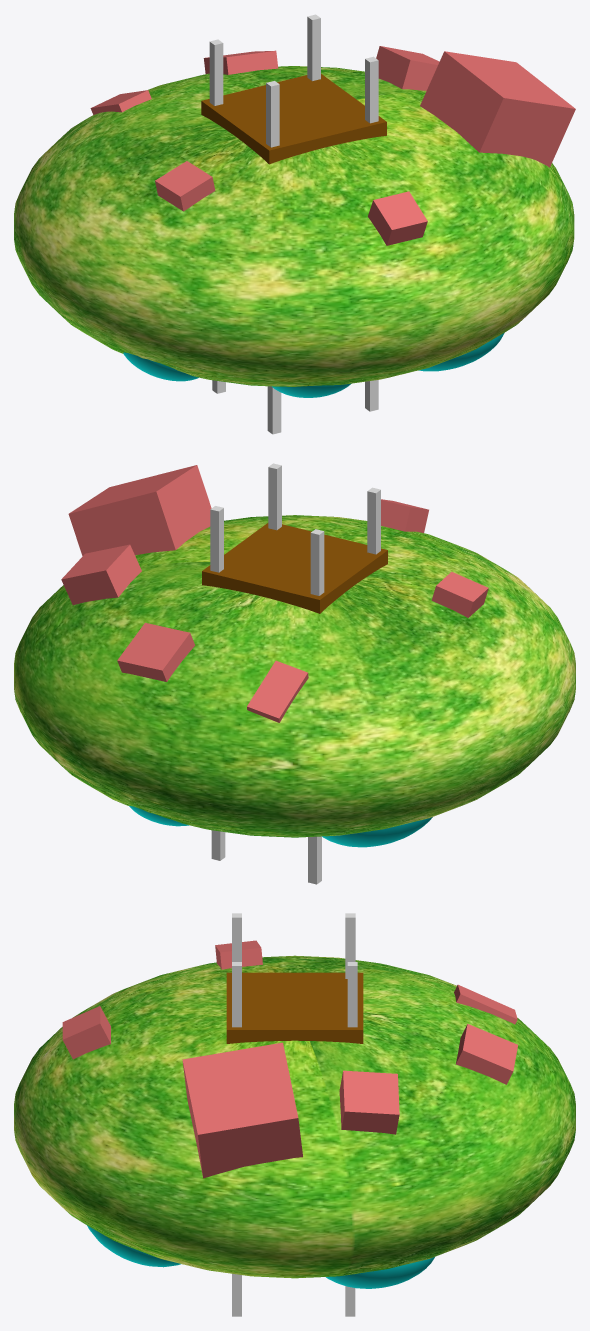
File: Home.fbx
The picture shows the model from 3 angles, top to bottom: view 1: azimuth 30°, elevation 25°; view 2: azimuth 150°, elevation 25°; view 3: azimuth 270°, elevation 25°; orthographic projection.
Parts seen in each view (by area): view 1: pCube6; view 2: pCube6; view 3: pCube6.
Boxes of the visible parts, x1=… form: pCube6: x1=14, y1=14, x2=575, y2=434; pCube6: x1=14, y1=463, x2=575, y2=884; pCube6: x1=14, y1=913, x2=575, y2=1316.
Size of the model in its own units: 36.6 by 25.04 by 36.4.
5 materials, 1 textured.
